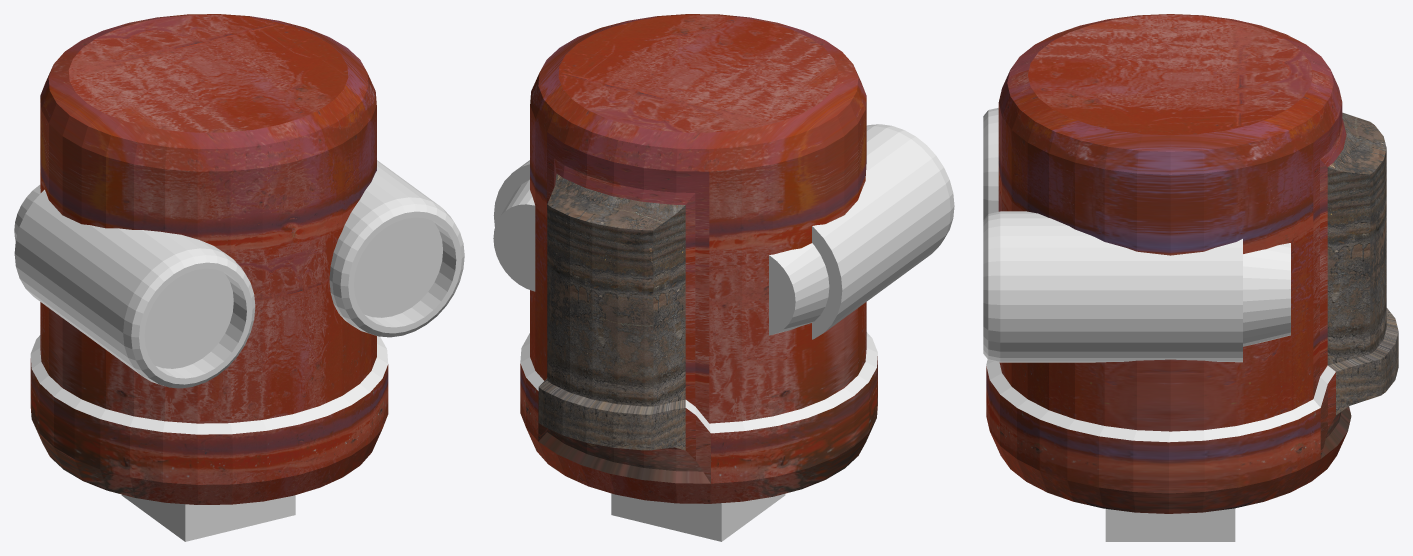
Rendered from Robot 1 Head.fbx.
The picture shows the model from 3 angles, left to right: view 1: azimuth 30°, elevation 25°; view 2: azimuth 150°, elevation 25°; view 3: azimuth 270°, elevation 25°; orthographic projection.
Visible parts, largest first — view 1: Cylinder.002, Cylinder.008, Cylinder.009, Cube.014; view 2: Cylinder.002, Cylinder.008, Cube.014, Cylinder.009; view 3: Cylinder.002, Cylinder.009, Cube.014, Cylinder.008.
Part boxes in pixels (x1,y1,x2,y2): Cylinder.002: (30, 14, 388, 504); Cylinder.008: (14, 185, 255, 388); Cylinder.009: (329, 160, 464, 337); Cube.014: (121, 494, 295, 541); Cylinder.002: (520, 14, 877, 503); Cylinder.008: (769, 124, 954, 339); Cube.014: (611, 493, 785, 541); Cylinder.009: (493, 160, 535, 291); Cylinder.002: (986, 14, 1398, 513); Cylinder.009: (983, 211, 1290, 362); Cube.014: (1105, 508, 1235, 541); Cylinder.008: (983, 108, 998, 219).
Size of the model in its own units: 189 by 231 by 198.
